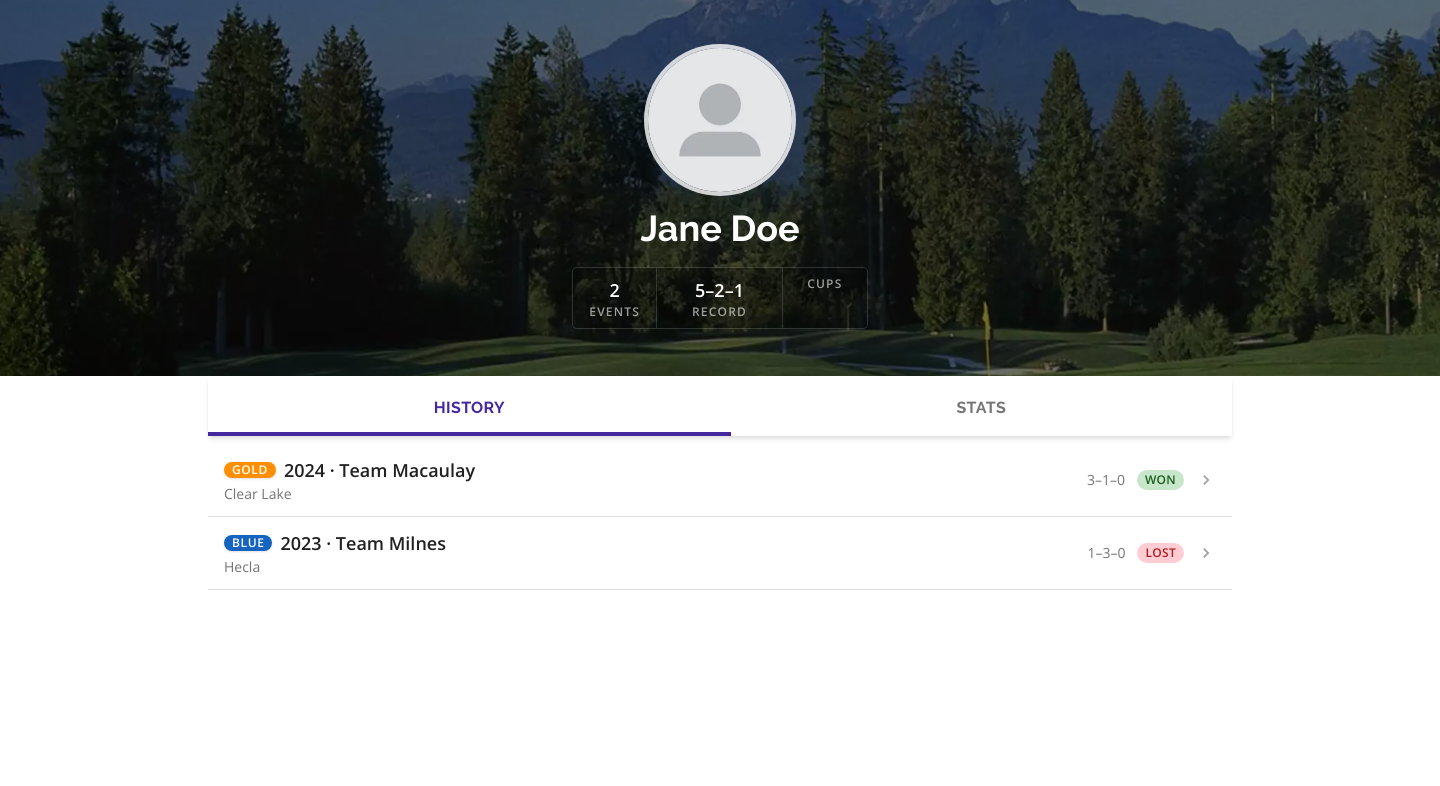
Scenario: PlayerView stats tab › reports points as a rate, since everyone plays every format
Click the button "Stats".
click(981, 406)  # box [731,376,1232,436]
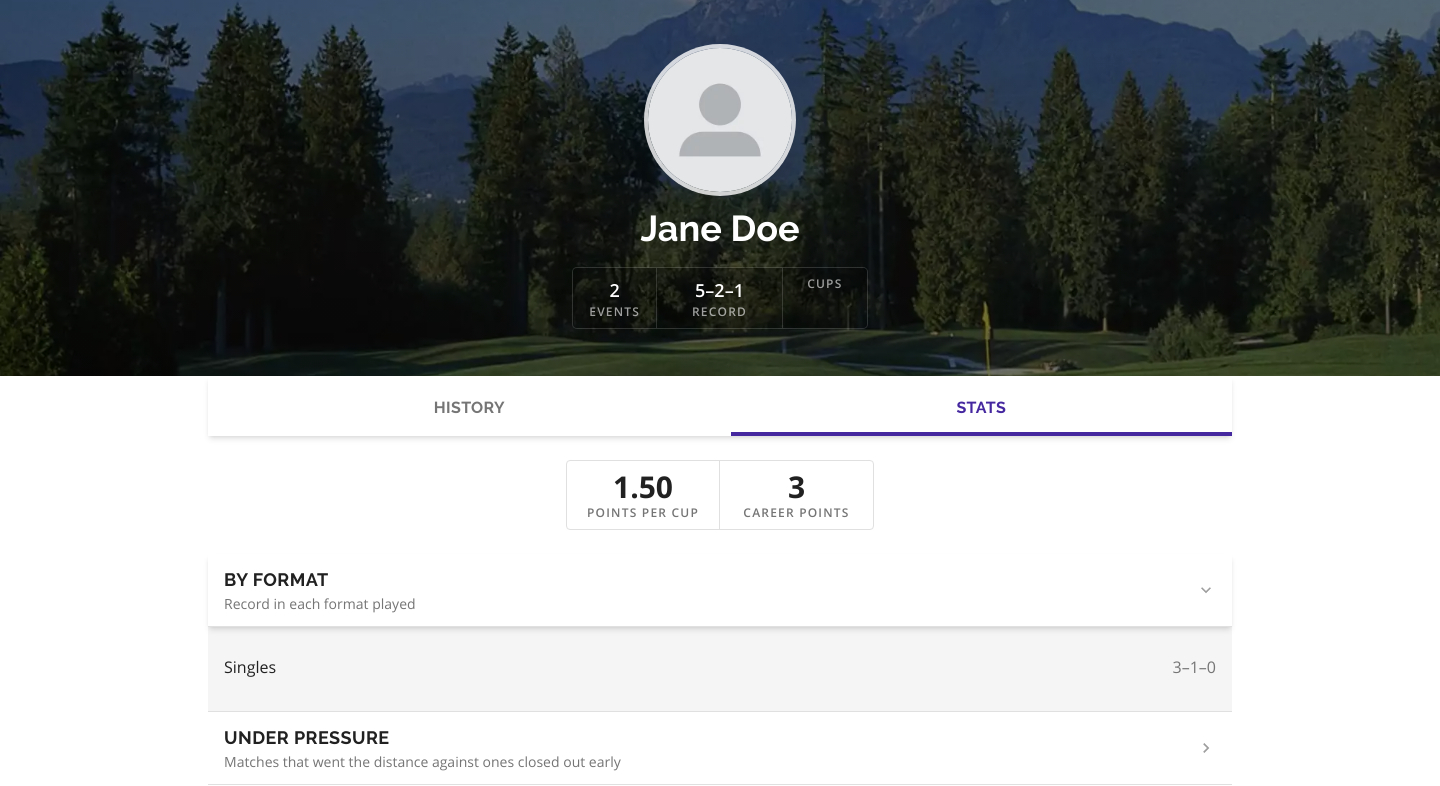
Expected: the text "1.50" is shown, [613,466,673,507]
Expected: the text "Points per cup" is shown, [587,505,699,521]
